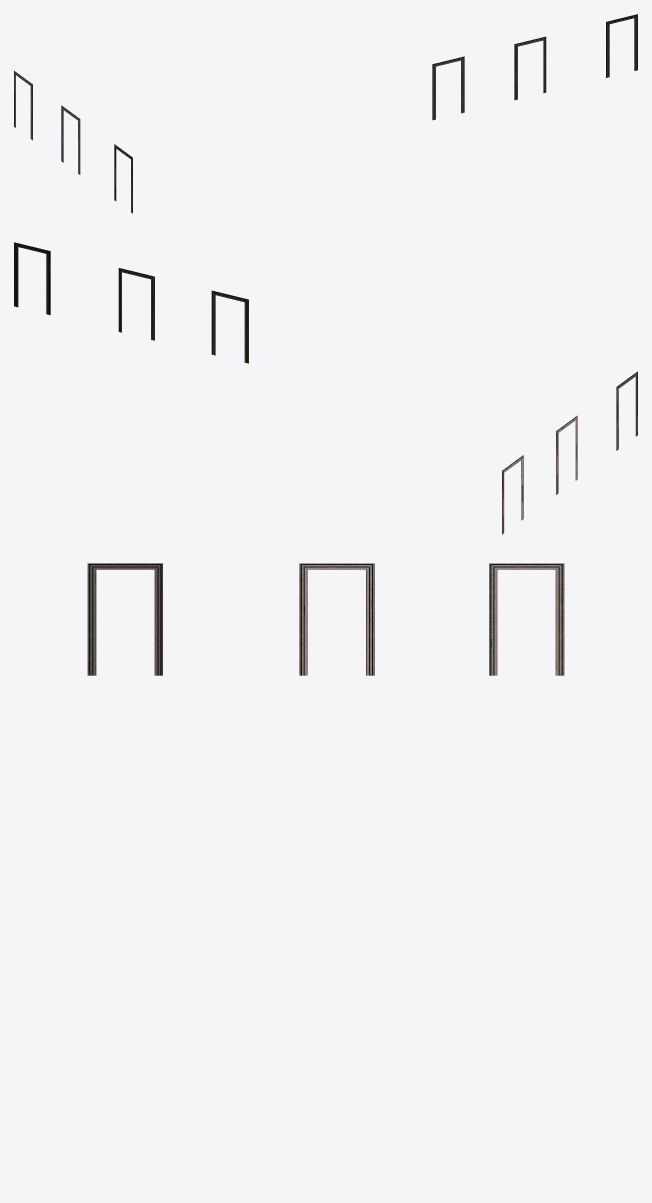
File: Archives_Alpha_33.glb
3 renders of one model, top to bottom at view 1: azimuth 30°, elevation 25°; view 2: azimuth 150°, elevation 25°; view 3: azimuth 270°, elevation 25°, orthographic. The views are drawn at different scales.
Visible parts, largest first — view 1: Archives_Alpha_33; view 2: Archives_Alpha_33; view 3: Archives_Alpha_33.
Part boxes in pixels (left/top/right/bottom): Archives_Alpha_33: left=14, top=14, right=637, bottom=213; Archives_Alpha_33: left=14, top=242, right=637, bottom=534; Archives_Alpha_33: left=87, top=563, right=564, bottom=675.
Size of the model in its own units: 125 by 12.75 by 49.
1 material, 1 textured.
